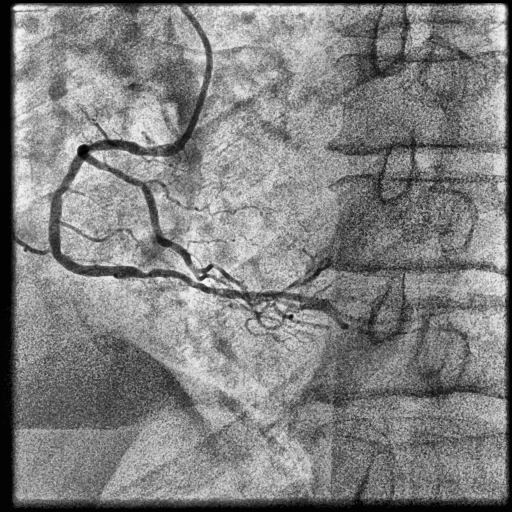pda: (243, 291, 350, 329)
rca: (49, 140, 243, 300)
